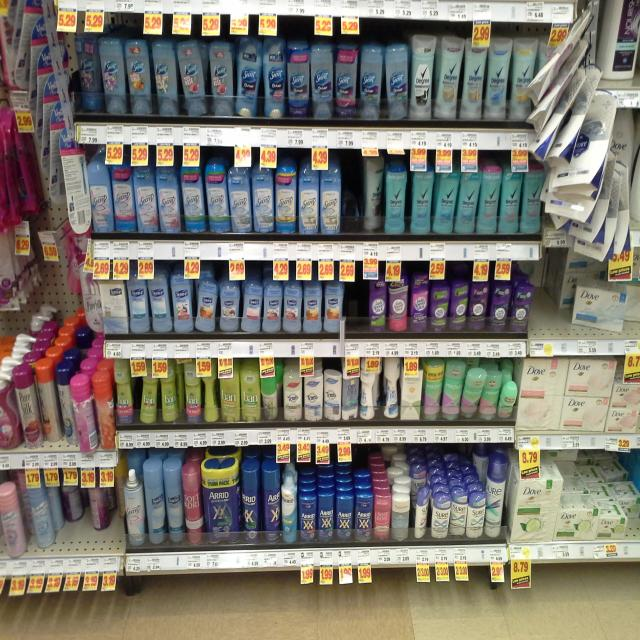unorganised: (536, 252, 638, 338), (61, 468, 119, 554), (69, 373, 116, 457), (432, 160, 481, 234), (343, 357, 399, 421), (174, 42, 208, 117), (30, 471, 58, 556), (236, 37, 262, 118), (34, 360, 58, 441), (77, 37, 99, 115), (385, 44, 407, 118), (364, 152, 383, 231), (262, 459, 278, 545), (138, 364, 160, 423), (196, 278, 219, 332), (199, 361, 219, 423), (461, 367, 485, 418), (240, 283, 264, 332), (260, 368, 280, 423), (449, 282, 469, 331), (414, 487, 432, 541), (324, 367, 341, 420), (496, 381, 520, 418)
